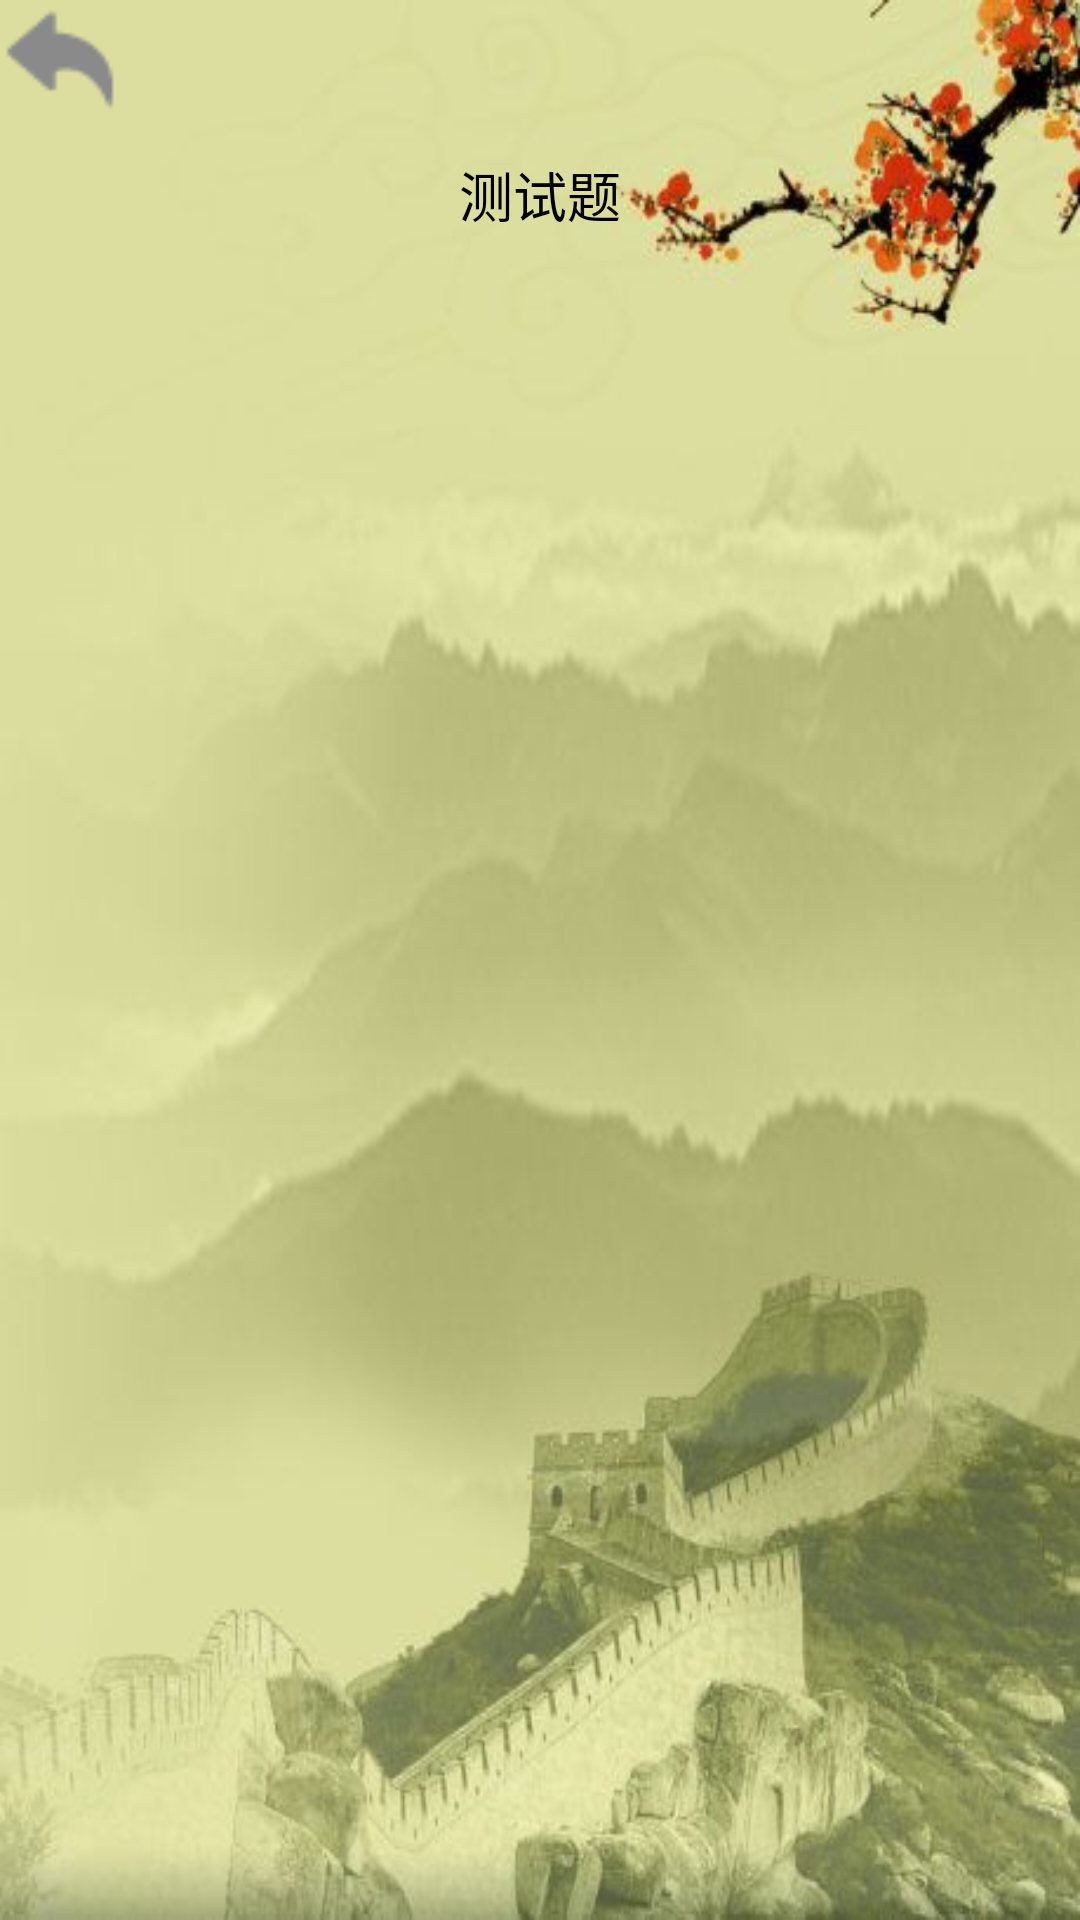

Locate icon controls on the screen. Image size 1080 x 1920, boxes as (x1, y1, x2, y2).
back: (7, 12, 113, 106)
